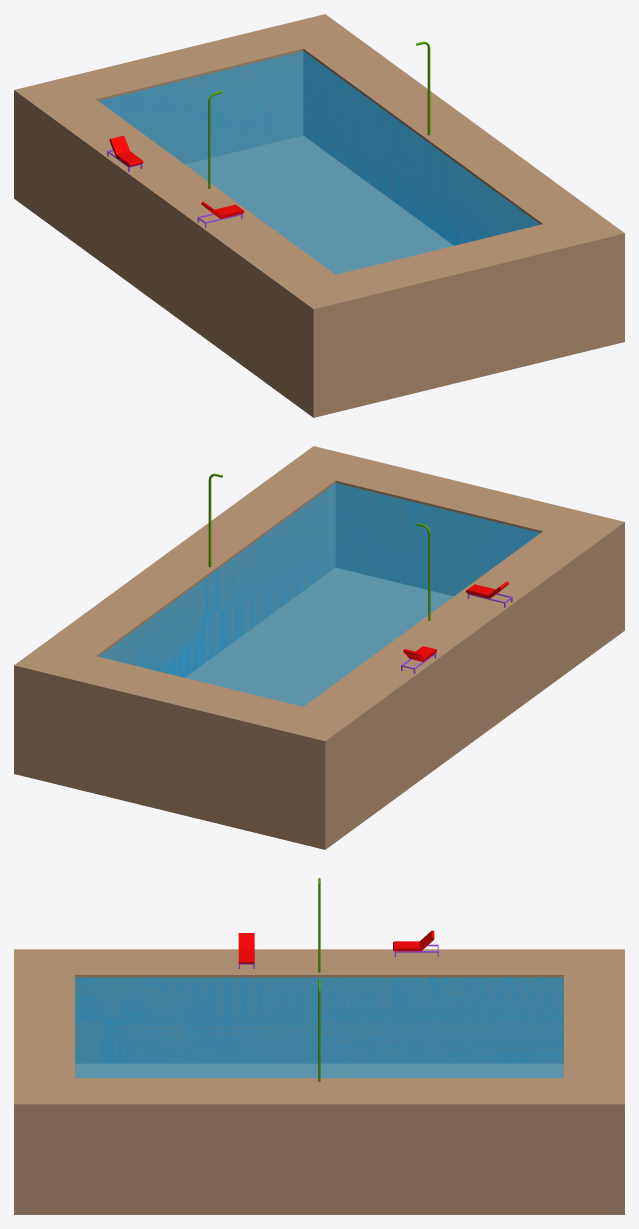
The model's file is World.gltf.
3 renders of one model, top to bottom at view 1: azimuth 30°, elevation 25°; view 2: azimuth 150°, elevation 25°; view 3: azimuth 270°, elevation 25°, orthographic.
Parts seen in each view (by area): view 1: Ground, Water; view 2: Ground, Water; view 3: Ground, Water, Bed (×2).
Boxes of the visible parts, left/top/right/bottom form: Ground: left=14, top=14, right=624, bottom=417; Water: left=99, top=51, right=539, bottom=274; Ground: left=14, top=446, right=624, bottom=849; Water: left=99, top=483, right=539, bottom=706; Ground: left=14, top=949, right=624, bottom=1214; Water: left=75, top=977, right=563, bottom=1078; Bed (×2): left=238, top=930, right=434, bottom=963.
Bounding box in the file's own units: 15 × 9.35 × 25.
